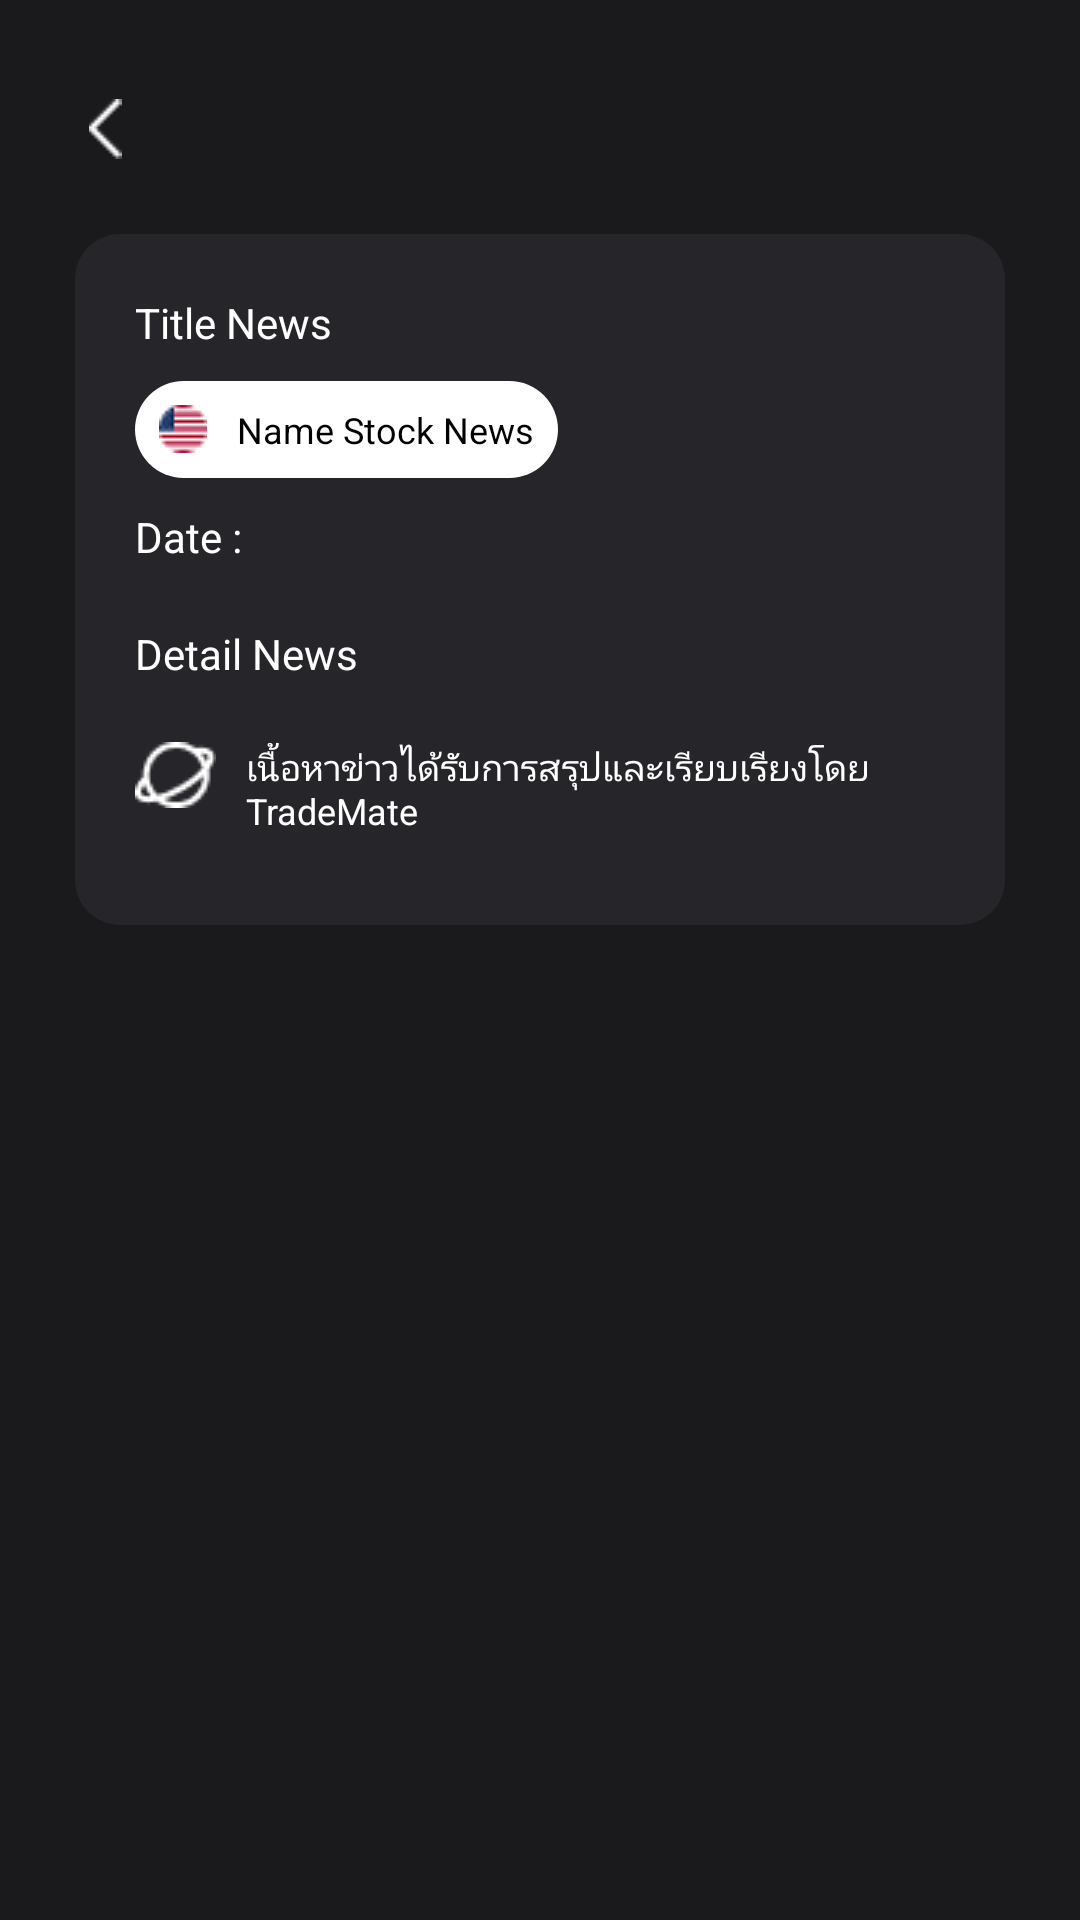

Where to tap for icons on this 1080×1920 app screen, as (x,y):
arrow: (105,129)
world: (175,775)
